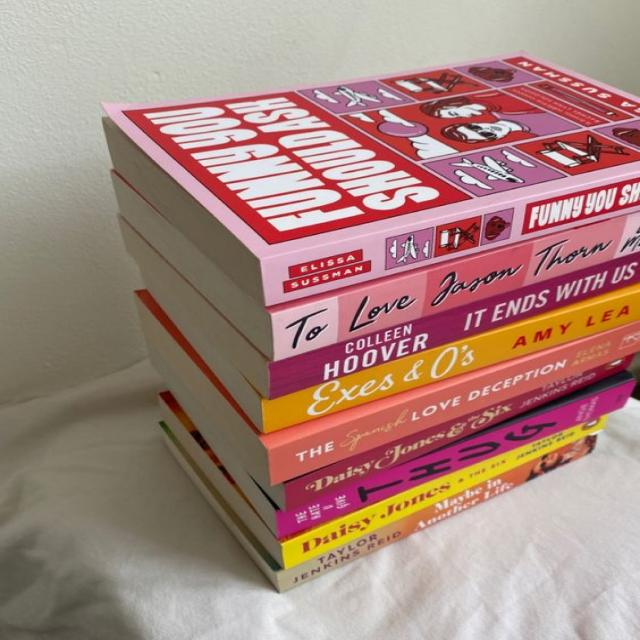book: (269, 322, 639, 484), (280, 379, 637, 541), (264, 288, 640, 436), (288, 353, 635, 511), (271, 212, 638, 360), (271, 253, 638, 399), (278, 435, 595, 595), (262, 173, 640, 305), (282, 417, 605, 571)
